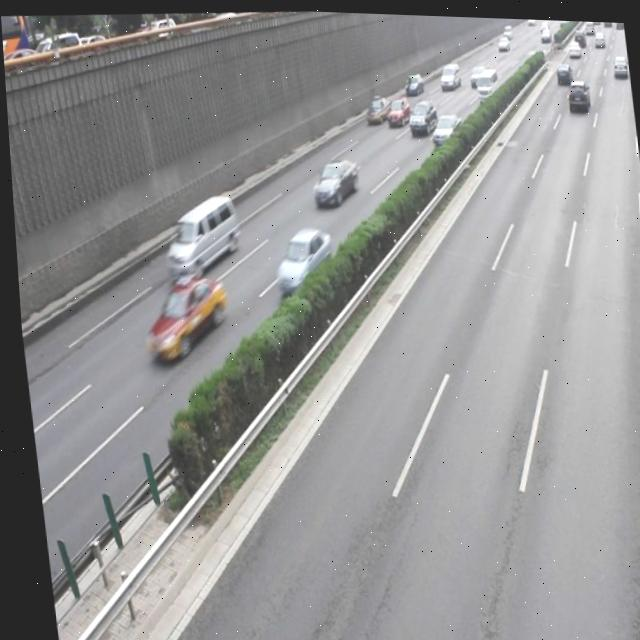car: (133, 268, 228, 365), (267, 223, 333, 294), (308, 155, 358, 207)
truck: (156, 189, 240, 276)
